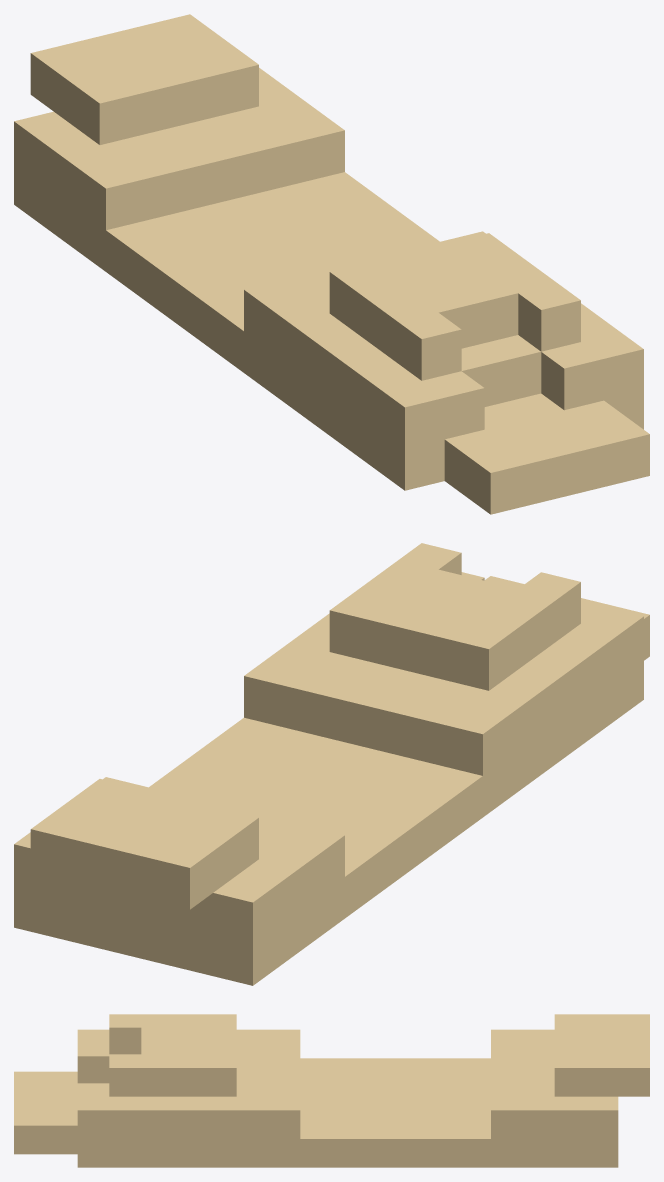
The model's file is snail__body.glb.
3 renders of one model, top to bottom at view 1: azimuth 30°, elevation 25°; view 2: azimuth 150°, elevation 25°; view 3: azimuth 270°, elevation 25°, orthographic. The views are drawn at different scales.
Parts seen in each view (by area): view 1: snail__body; view 2: snail__body; view 3: snail__body.
Part boxes in pixels (box(x1,y1,x2,y2)): snail__body: box(14, 14, 649, 514); snail__body: box(14, 543, 649, 985); snail__body: box(14, 1014, 649, 1167).
Bounding box in the file's own units: 0.6 × 0.3 × 2.
1 material, 1 textured.
